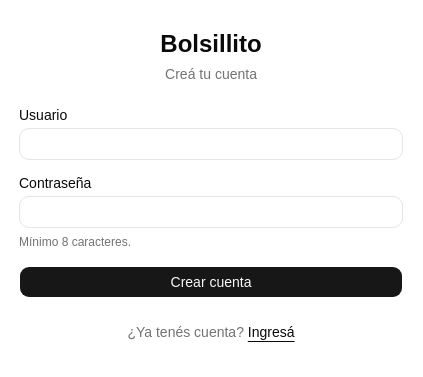
Test: RegisterPage › shows a duplicate-username message on 409
This screenshot has width=423, height=377.
Type "ana" into the field labelled "Usuario" at coordinates (211, 144), box [19,128,403,160]
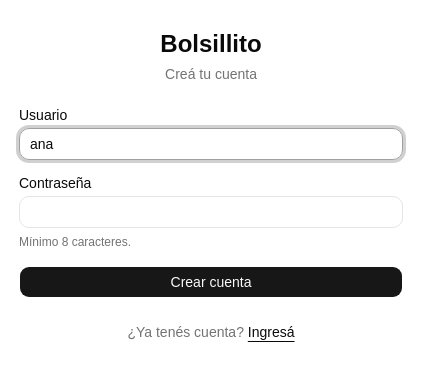
Type "password1" into the password field labelled "Contraseña" at coordinates (211, 212), box [19,196,403,228]
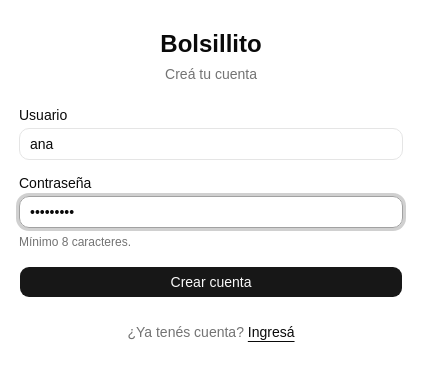
Click the button "Crear cuenta" at coordinates (211, 282), box [19,266,403,298]
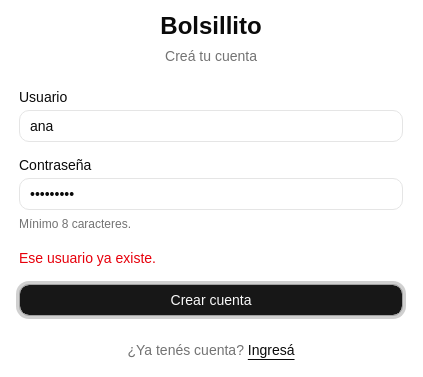
expect the text "Ese usuario ya existe." is shown: met, box [19,250,156,266]
